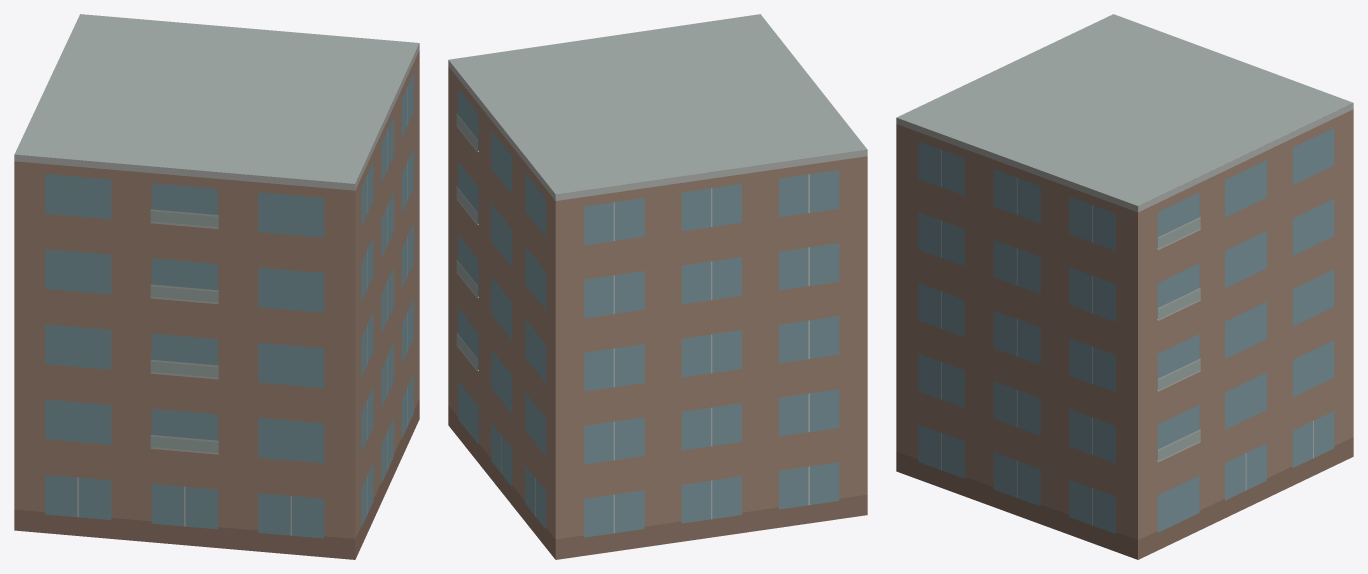
The model's file is survey-upis-32892760.glb.
3 views of the same model, side by side, from view 1: azimuth 30°, elevation 25°; view 2: azimuth 150°, elevation 25°; view 3: azimuth 270°, elevation 25° (orthographic). The views are drawn at different scales.
Visible parts, largest first — view 1: survey-upis-32892760.tmp; view 2: survey-upis-32892760.tmp; view 3: survey-upis-32892760.tmp.
Boxes of the visible parts, left/top/right/bottom form: survey-upis-32892760.tmp: left=14, top=14, right=419, bottom=559; survey-upis-32892760.tmp: left=448, top=14, right=867, bottom=559; survey-upis-32892760.tmp: left=896, top=14, right=1353, bottom=559.
Size of the model in its own units: 15.84 by 13.6 by 15.94.
